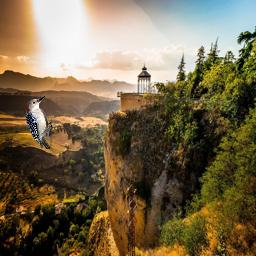Woodpecker: (26, 96, 52, 149)
